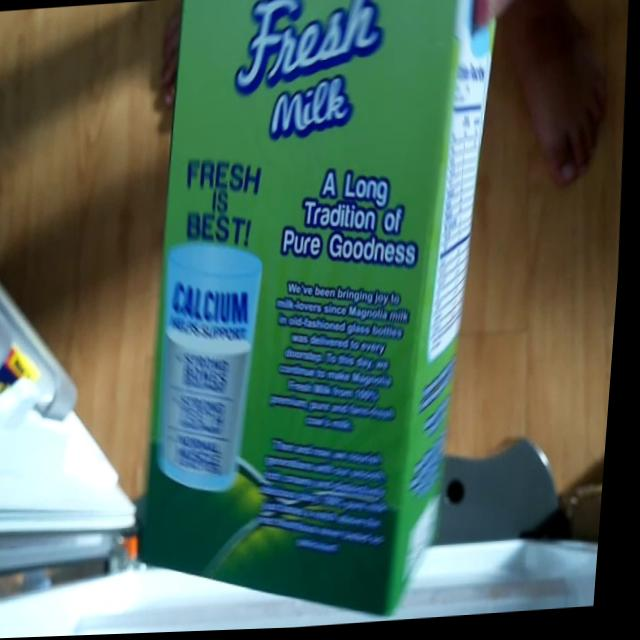milk: (114, 0, 533, 636)
